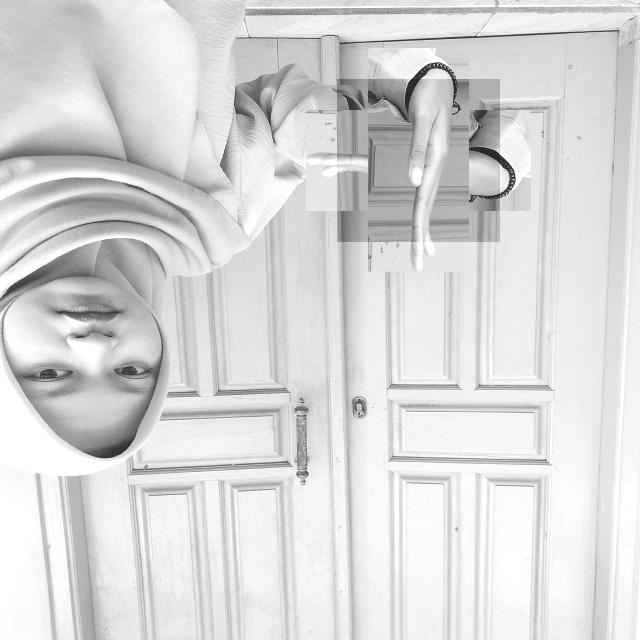adik: (337, 79, 500, 242)
